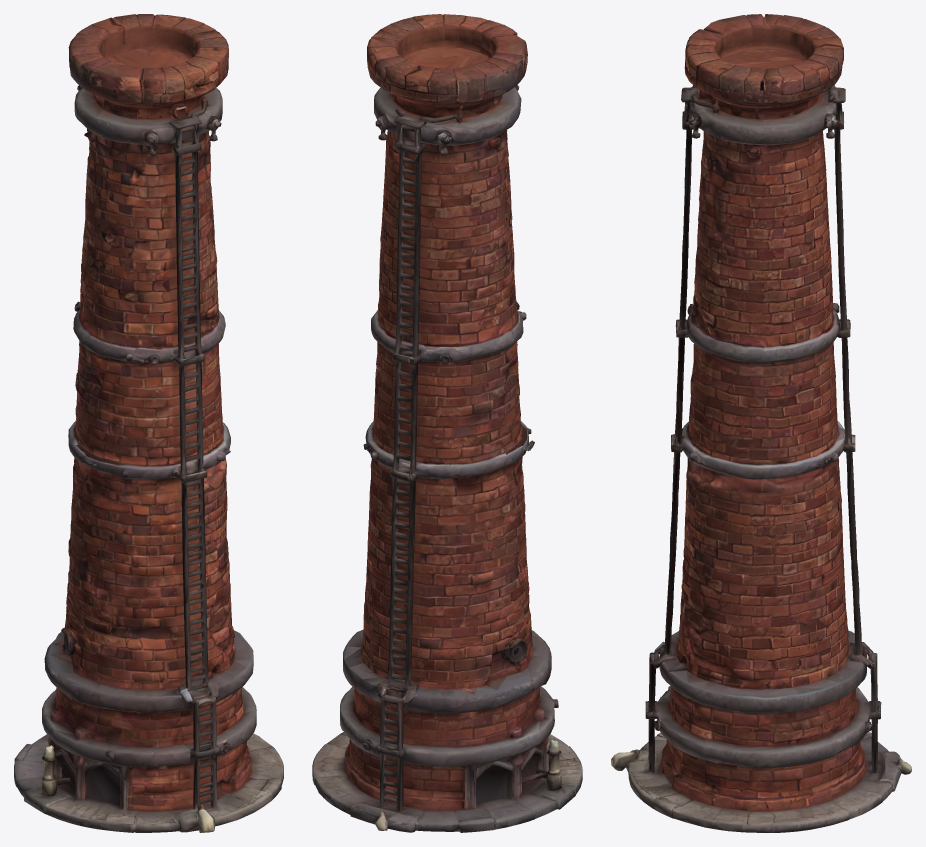
Rendered from bld_ind_chimney.fbx.
The picture shows the model from 3 angles, left to right: view 1: azimuth 30°, elevation 25°; view 2: azimuth 150°, elevation 25°; view 3: azimuth 270°, elevation 25°; orthographic projection.
Parts seen in each view (by area): view 1: bld_ind_chimney_LOD0; view 2: bld_ind_chimney_LOD0; view 3: bld_ind_chimney_LOD0.
Part boxes in pixels (x1,y1,x2,y2): bld_ind_chimney_LOD0: (14,14,283,832); bld_ind_chimney_LOD0: (312,14,582,832); bld_ind_chimney_LOD0: (611,14,911,832).
Size of what is drawn, in the model's own units: 0.331 by 0.98 by 0.3657.
